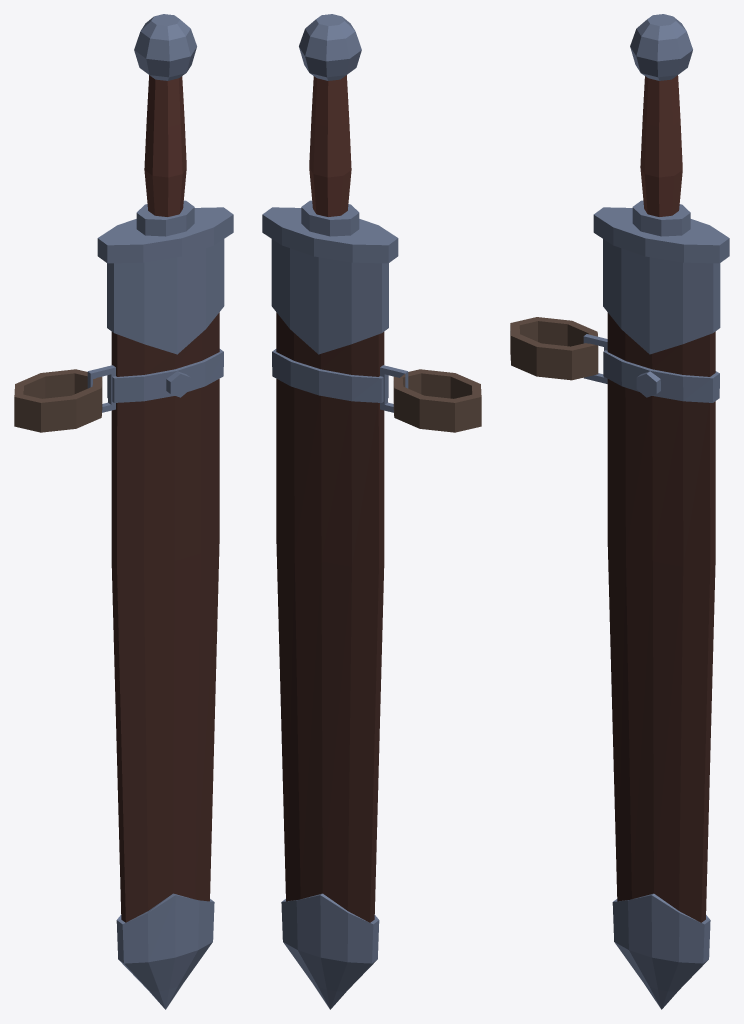
The model's file is scabbard-d6ce16.glb.
The picture shows the model from 3 angles, left to right: view 1: azimuth 30°, elevation 25°; view 2: azimuth 150°, elevation 25°; view 3: azimuth 330°, elevation 25°; orthographic projection.
Parts seen in each view (by area): view 1: scabbard-matte, scabbard-metal; view 2: scabbard-matte, scabbard-metal; view 3: scabbard-matte, scabbard-metal.
Part boxes in pixels (left/top/right/bottom): scabbard-matte: left=14, top=75, right=219, bottom=922; scabbard-metal: left=87, top=14, right=233, bottom=1009; scabbard-matte: left=276, top=75, right=481, bottom=922; scabbard-metal: left=262, top=14, right=408, bottom=1009; scabbard-matte: left=510, top=75, right=715, bottom=922; scabbard-metal: left=583, top=14, right=729, bottom=1009.
Size of the model in its own units: 0.2719 by 1.2 by 0.0784.
